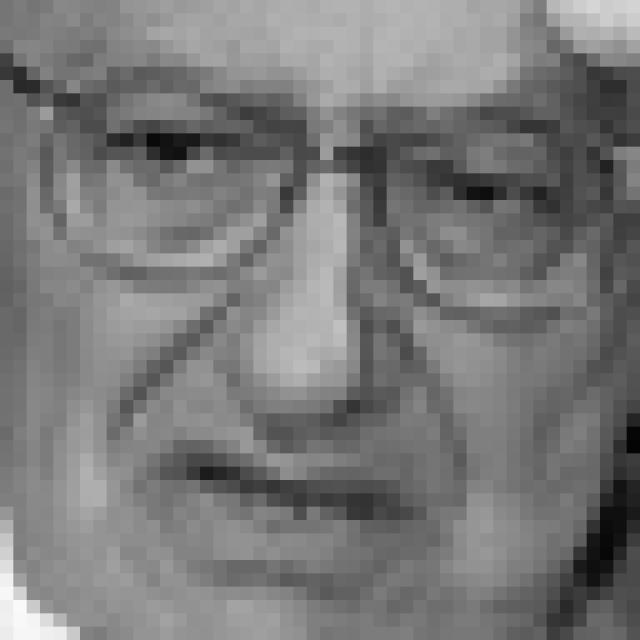disgust: (42, 65, 601, 596)
